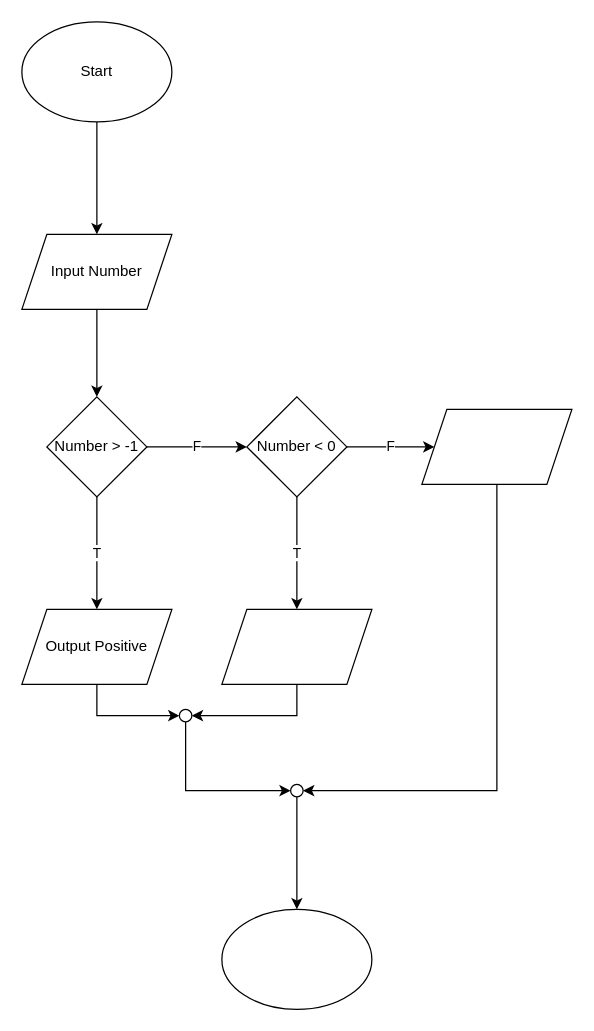
Some shapes in this 594 by 1031 pixel diagram are drawn without their labels. Each missing label, with the centre of its shape:
"End" belongs at [296,958].
"Output Error" belongs at [496,446].
"Output Negative" belongs at [296,646].
